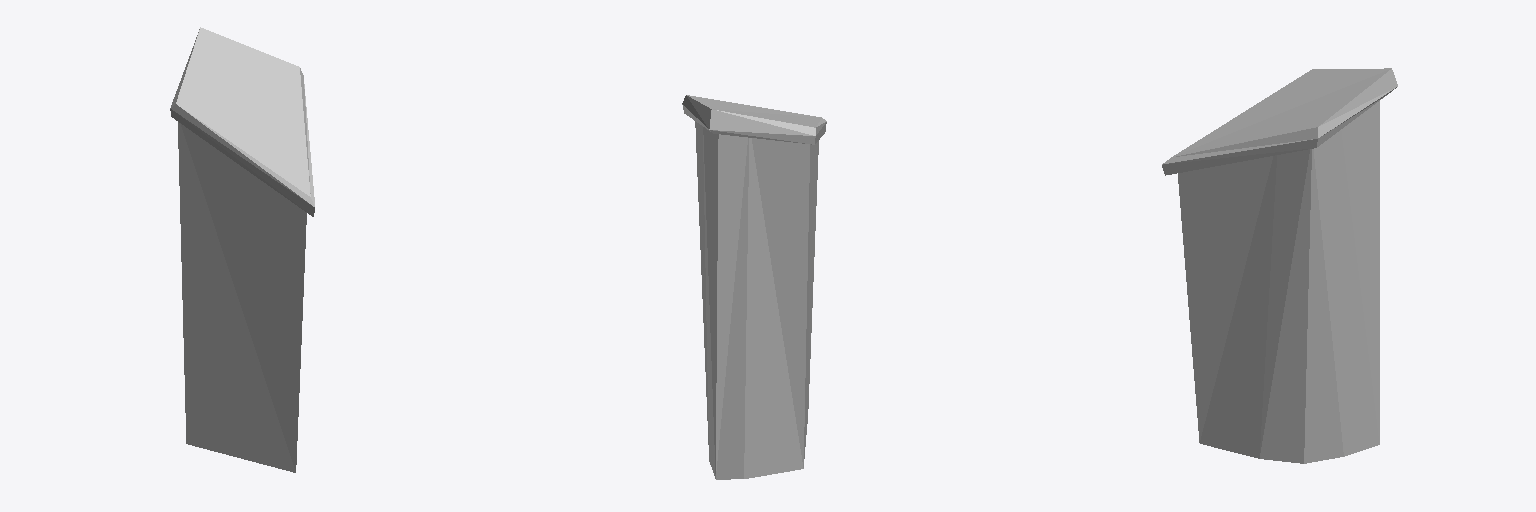
Rendered from BGmountain12.obj.
The picture shows the model from 3 angles: view 1: azimuth 30°, elevation 25°; view 2: azimuth 150°, elevation 25°; view 3: azimuth 270°, elevation 25°; orthographic projection.
Parts seen in each view (by area): view 1: polySurface2 polySurface1, polySurface1 polySurface3; view 2: polySurface2 polySurface1, polySurface1 polySurface3; view 3: polySurface2 polySurface1, polySurface1 polySurface3.
Part boxes in pixels (x1,y1,x2,y2): polySurface2 polySurface1: (178, 122, 306, 472); polySurface1 polySurface3: (170, 27, 314, 216); polySurface2 polySurface1: (695, 121, 818, 479); polySurface1 polySurface3: (682, 95, 826, 144); polySurface2 polySurface1: (1178, 101, 1379, 463); polySurface1 polySurface3: (1162, 68, 1397, 175).
Bounding box in the file's own units: 11374 × 30549 × 17457.